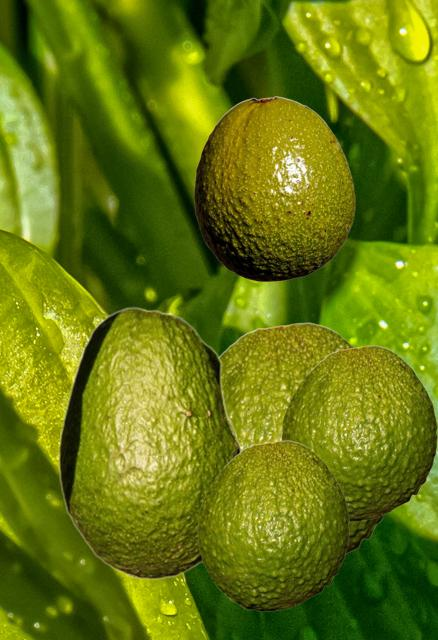avocado: (58, 306, 241, 579), (220, 322, 385, 554), (194, 96, 354, 280), (281, 345, 436, 520), (197, 440, 348, 610)
